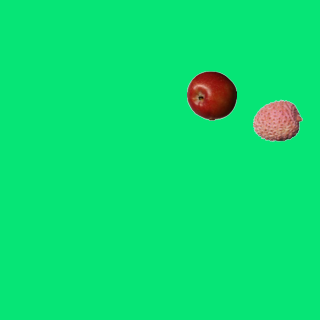Apple Braeburn: (186, 70, 236, 120)
Lychee: (252, 95, 302, 145)
